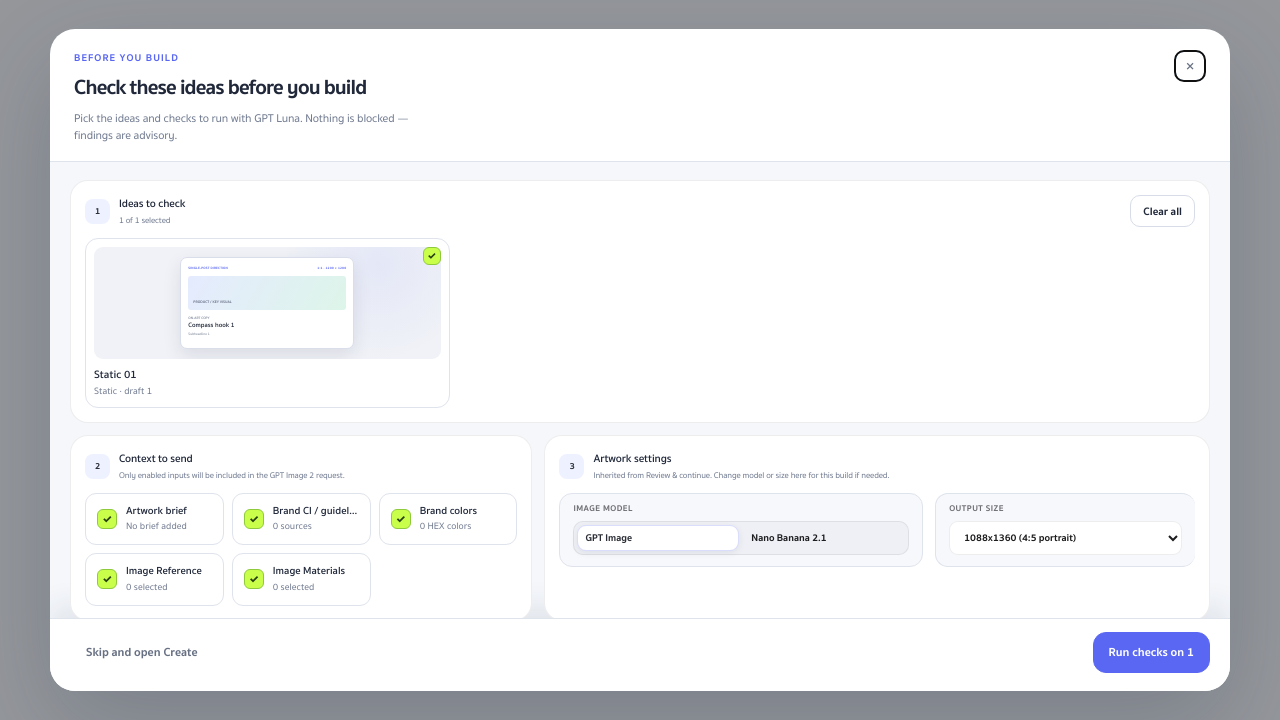
Test: PreflightModal › uses the fix agent to revise only the flagged field, not the whole idea
Click the button "Run checks on 1". click: (1151, 653)
box: top-left (1093, 632), bottom-right (1210, 673)
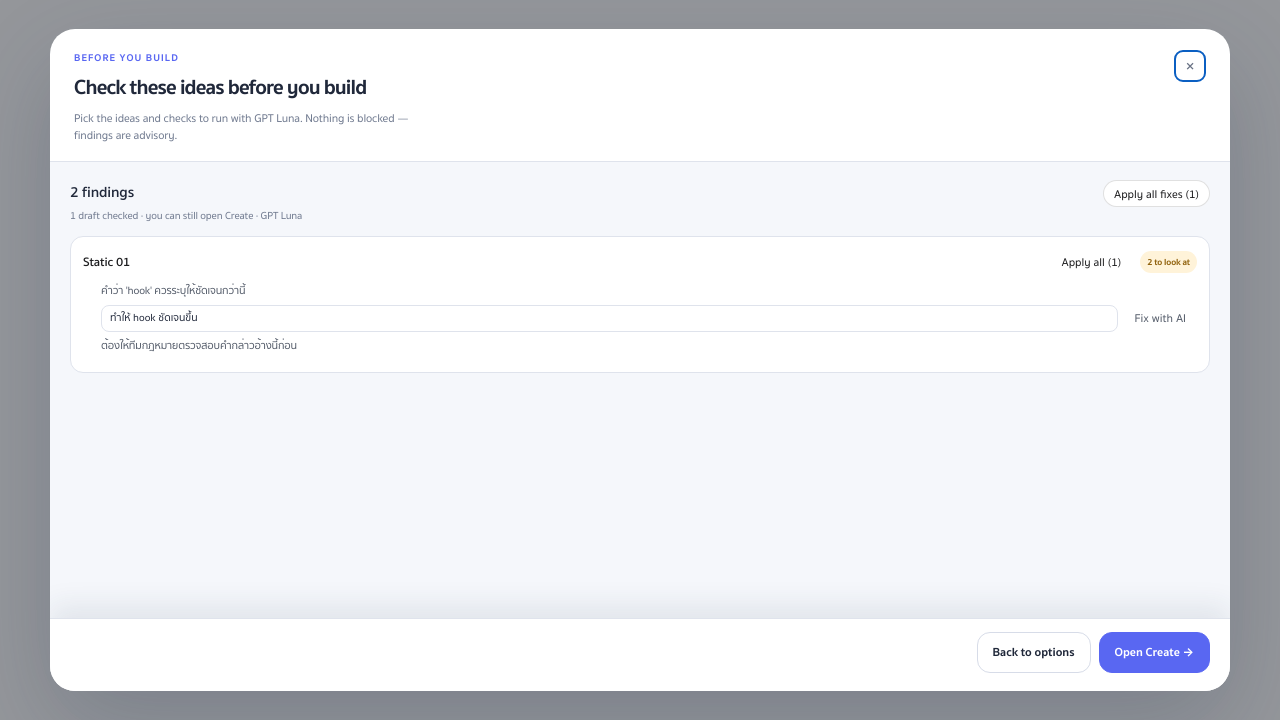
Expected: the text "คำว่า 'hook' ควรระบุให้ชัดเจนกว่านี้" is shown, top-left (101, 282), bottom-right (245, 299)
Expected: the number of buttons "Fix with AI" is 1
Click the button "Fix with AI". click: (1160, 318)
box: top-left (1124, 305), bottom-right (1197, 332)
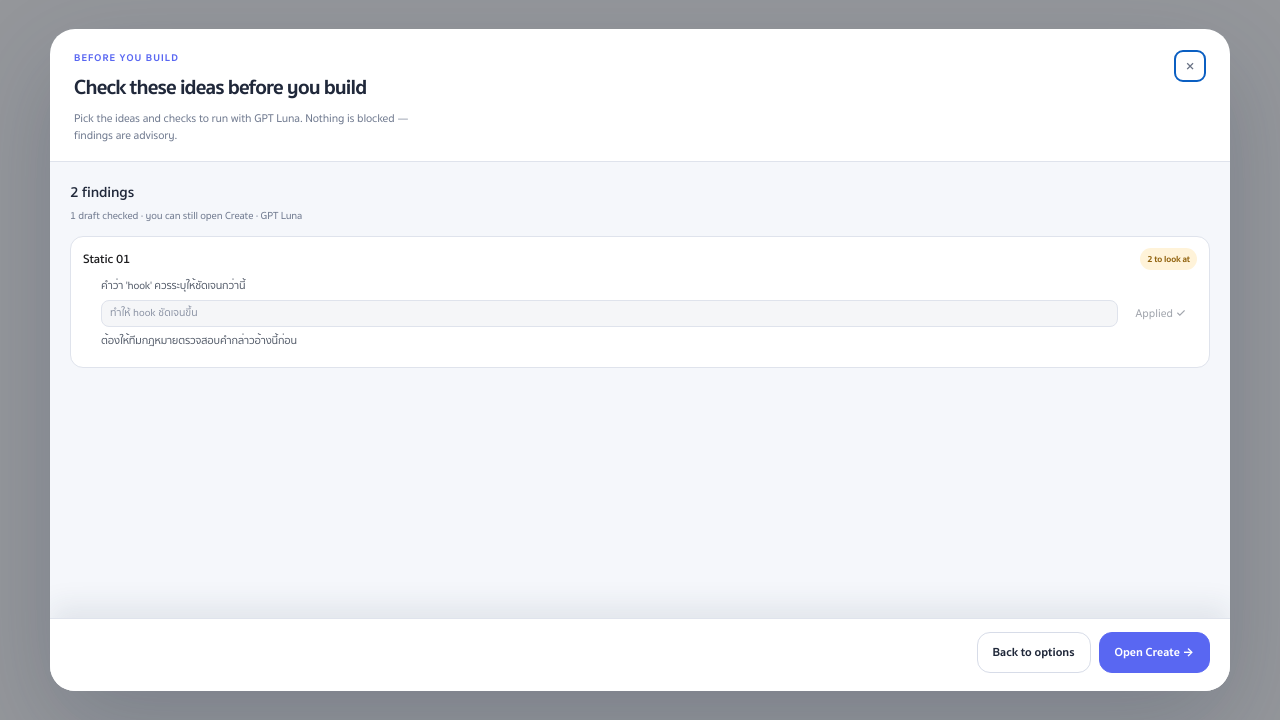
Expected: the button "Applied ✓" is disabled, top-left (1124, 300), bottom-right (1197, 327)
